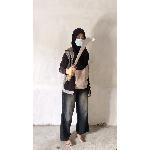Golok: (68, 35, 99, 73)
